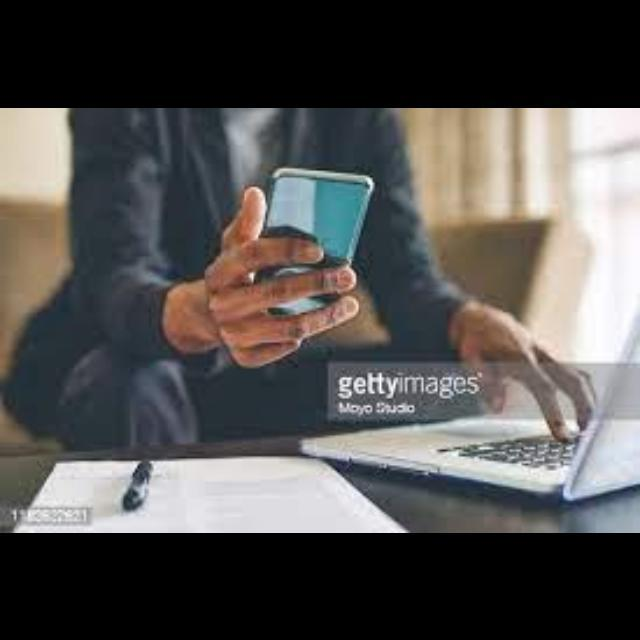PhoneUse: (253, 164, 374, 316)
